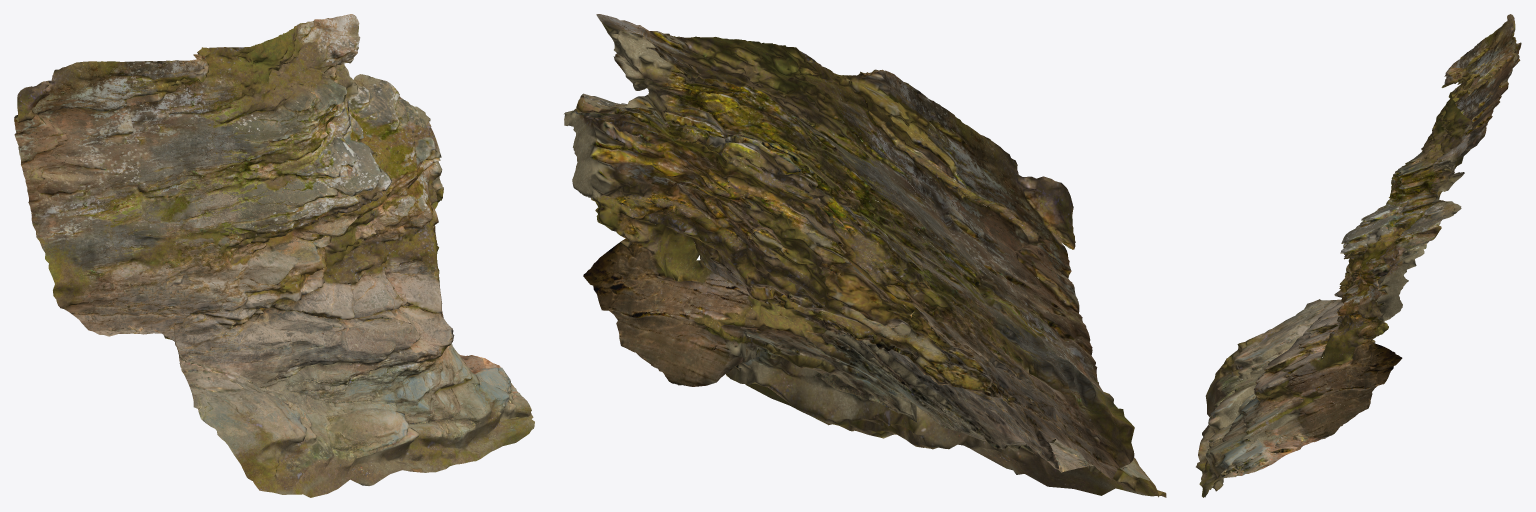
The model's file is rock_face_02.glb.
3 views of the same model, side by side, from view 1: azimuth 30°, elevation 25°; view 2: azimuth 150°, elevation 25°; view 3: azimuth 270°, elevation 25° (orthographic). The views are drawn at different scales.
Parts seen in each view (by area): view 1: rock_face_02; view 2: rock_face_02; view 3: rock_face_02.
Part boxes in pixels (bbox=[...]): rock_face_02: bbox=[14, 14, 534, 497]; rock_face_02: bbox=[564, 14, 1166, 497]; rock_face_02: bbox=[1196, 14, 1521, 497].
Bounding box in the file's own units: 2.71 × 2.47 × 2.13.
Materials: 1 (1 with a texture image).
